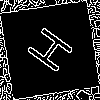H: (24, 24, 83, 81)
